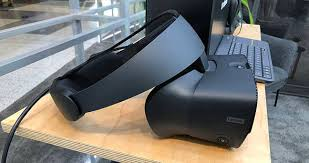oculus: (54, 36, 258, 152)
